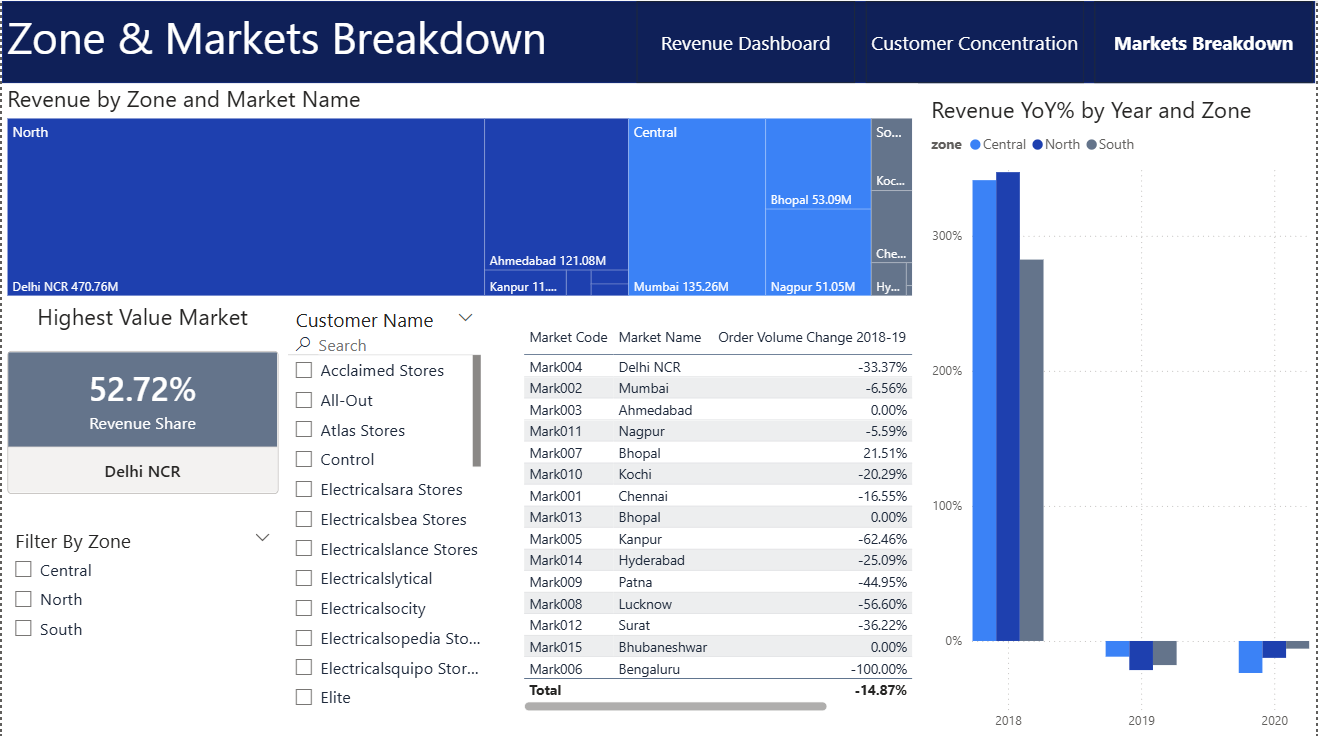

This screenshot's page, from the dashboard's own definition file:
{"tool":"powerbi","page":{"name":"Markets Breakdown","canvas":[1280,720],"ordinal":2},"visuals":[{"type":"group","id":"g1","title":"Group 1","box":[0,0,1279.5,80.5],"z":0},{"type":"shape","box":[0,0,1279.5,80.3],"z":0,"group":"g1"},{"type":"textbox","box":[0,0,697.9,80.5],"z":1000,"group":"g1"},{"type":"treemap","title":"Revenue by Zone and Market Name","fields":{"Group":["sales markets_clean.zone"],"Values":["_Measures.Revenue"],"Details":["sales markets_clean.market_name"]},"box":[0,80.3,891.9,212],"z":1000},{"type":"clusteredColumnChart","title":"Revenue YoY% by Year and Zone","fields":{"Y":["_Measures.Revenue YoY%"],"Series":["sales markets_clean.zone"],"Category":["sales date.year"]},"box":[901,90.9,378.6,628.4],"z":2000},{"type":"cardVisual","title":"Highest Value Market ","fields":{"Data":["_Measures.Revenue Share% (markets)"],"Rows":["sales markets_clean.market_name"]},"box":[0,292.9,274,213.5],"z":3000},{"type":"slicer","fields":{"Values":["sales markets_clean.zone"]},"box":[0,507.3,274.1,143.8],"z":4000},{"type":"slicer","fields":{"Values":["sales customers.customer_name"]},"box":[274,292.9,198.4,404.4],"z":5000},{"type":"pageNavigator","box":[617.8,0,661.7,80.3],"z":5003,"group":"g1"},{"type":"tableEx","fields":{"Values":["sales markets_clean.market_code","sales markets_clean.market_name","_Measures.Order Volume Change 2018-19","_Measures.Revenue"]},"box":[502.7,311.8,389.3,385.5],"z":6000}]}

Visuals, with their boxes in screenshot pixels (x1, y1, x2, y2), scaled from the page's 1280x720 canvas onto the 1318x736 screenshot:
"Group 1" group: l=0, t=0, r=1317, b=82
shape: l=0, t=0, r=1317, b=82
textbox: l=0, t=0, r=719, b=82
"Revenue by Zone and Market Name" treemap: l=0, t=82, r=918, b=299
"Revenue YoY% by Year and Zone" clusteredColumnChart: l=928, t=93, r=1317, b=735
"Highest Value Market " cardVisual: l=0, t=299, r=282, b=518
slicer - sales markets_clean.zone: l=0, t=519, r=282, b=666
slicer - sales customers.customer_name: l=282, t=299, r=486, b=713
pageNavigator: l=636, t=0, r=1317, b=82
tableEx - sales markets_clean.market_code x sales markets_clean.market_name: l=518, t=319, r=918, b=713
